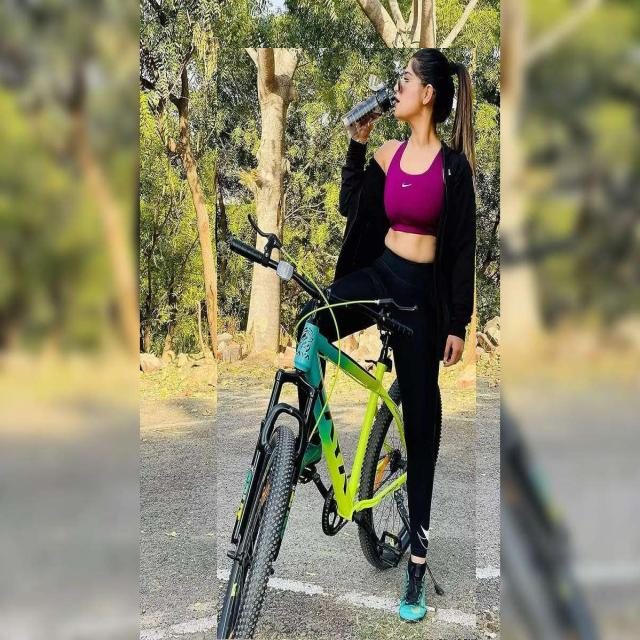bicycle: (217, 49, 475, 639)
